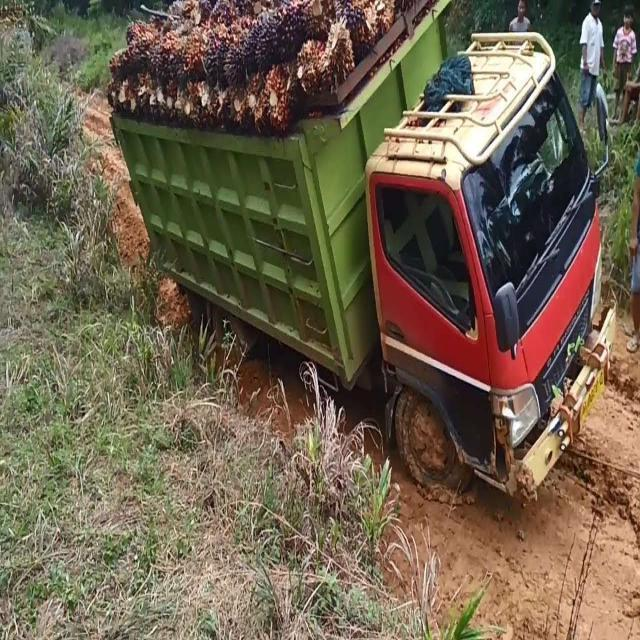truck: (107, 0, 616, 522)
